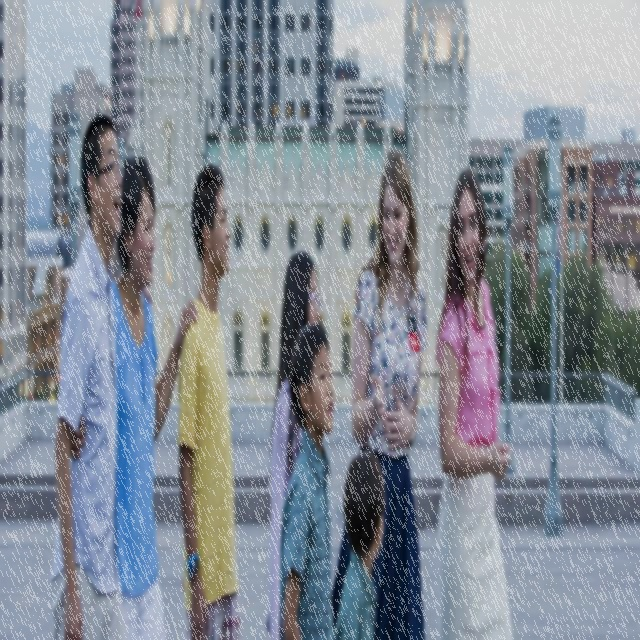pessoa: (63, 145, 200, 639), (432, 161, 518, 639), (50, 112, 126, 639), (349, 144, 428, 639), (176, 157, 248, 639), (268, 247, 324, 639), (278, 319, 336, 639), (329, 438, 392, 639)
